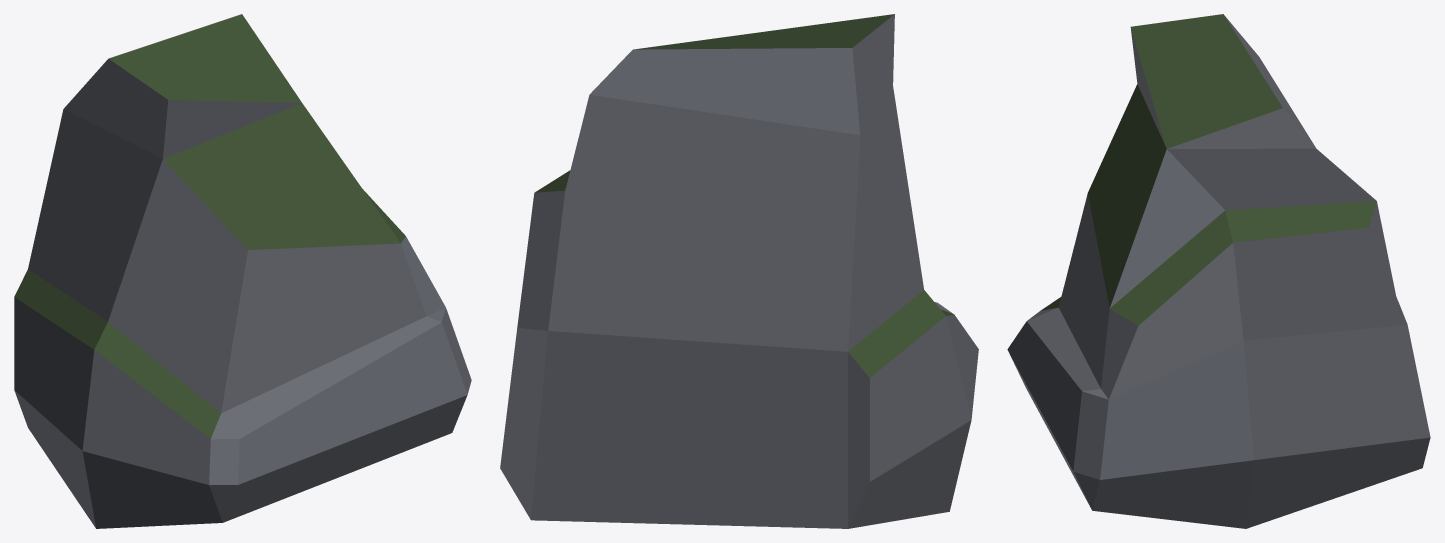
The model's file is Rock_Moss_2.glb.
3 renders of one model, left to right at view 1: azimuth 30°, elevation 25°; view 2: azimuth 150°, elevation 25°; view 3: azimuth 270°, elevation 25°, orthographic. The views are drawn at different scales.
Visible parts, largest first — view 1: Rock_Moss_2; view 2: Rock_Moss_2; view 3: Rock_Moss_2.
Boxes of the visible parts, x1=… form: Rock_Moss_2: x1=14, y1=14, x2=471, y2=528; Rock_Moss_2: x1=500, y1=14, x2=978, y2=528; Rock_Moss_2: x1=1007, y1=14, x2=1430, y2=528.
Bounding box in the file's own units: 0.6125 × 0.6918 × 0.6504.
